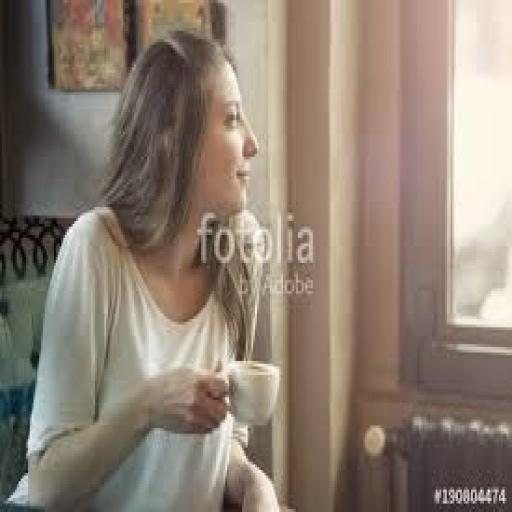drinking: (222, 358, 279, 425)
